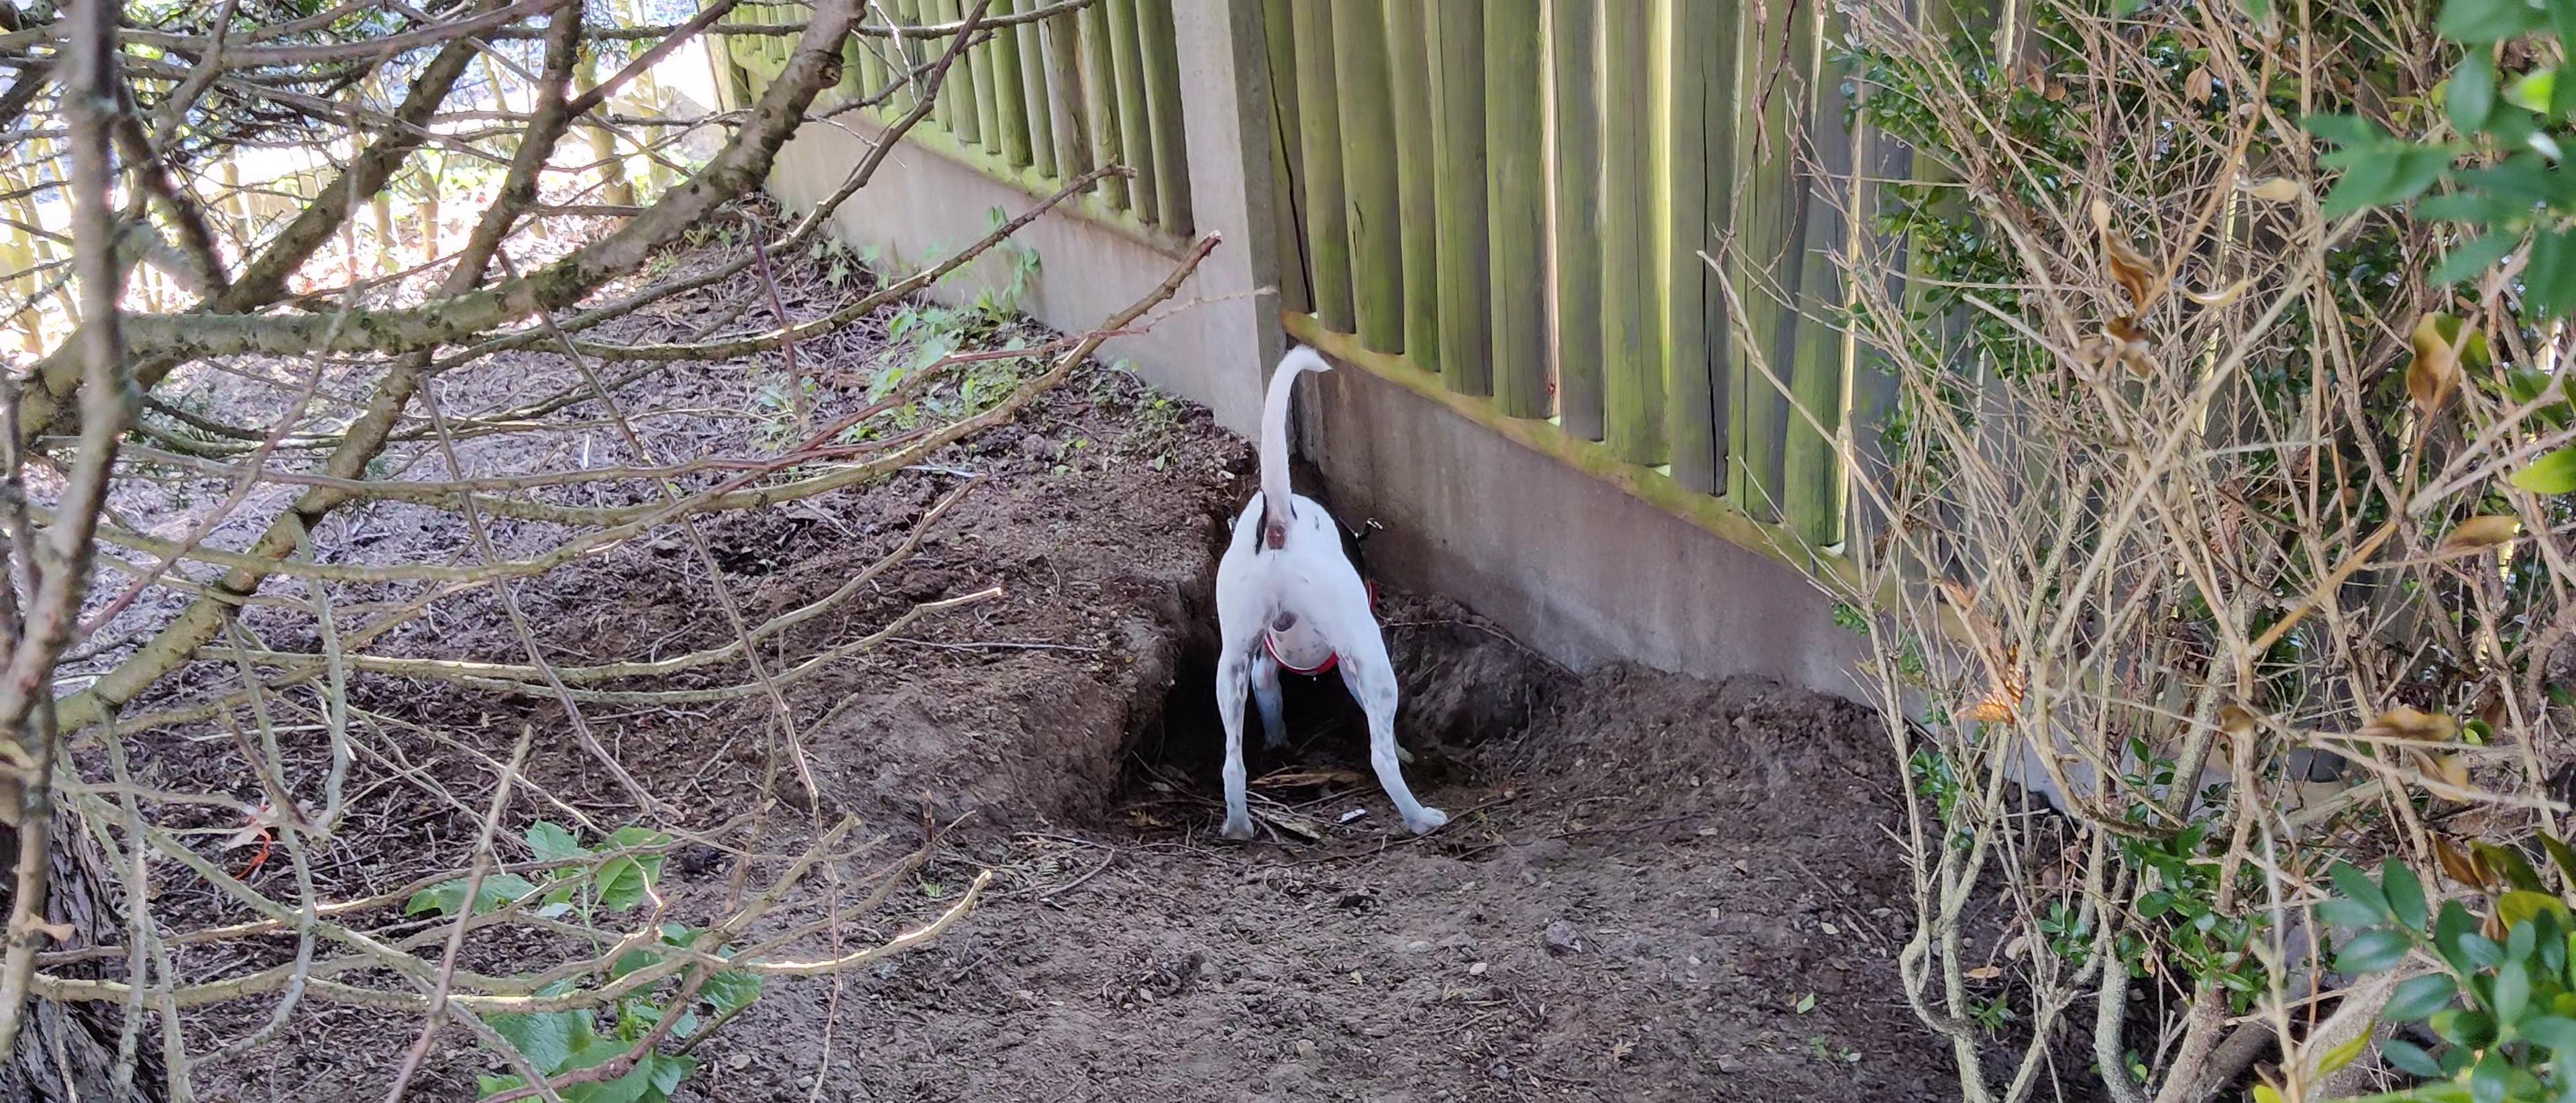Dog: (1171, 335, 1464, 847)
